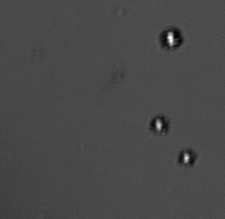Living Cell: (159, 29, 183, 49), (150, 114, 169, 135), (179, 150, 196, 166)
